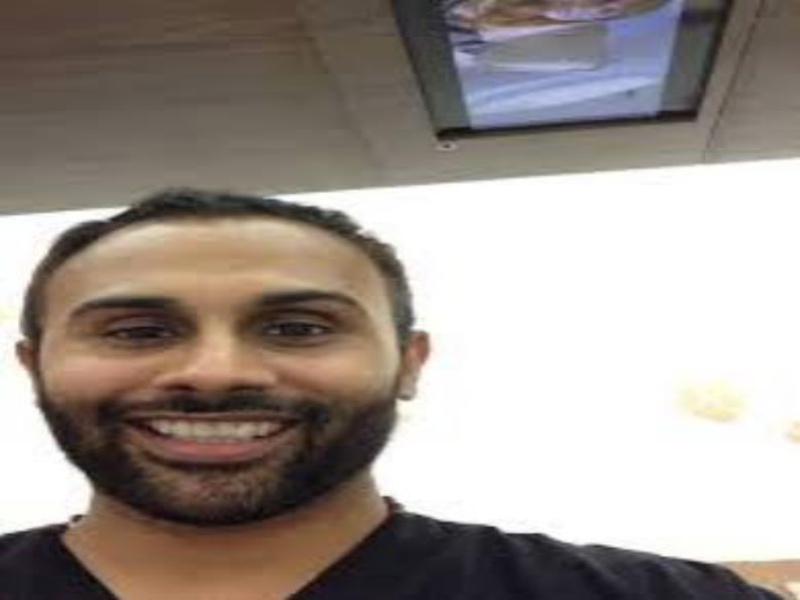TsisyArotava: (12, 190, 437, 536)
